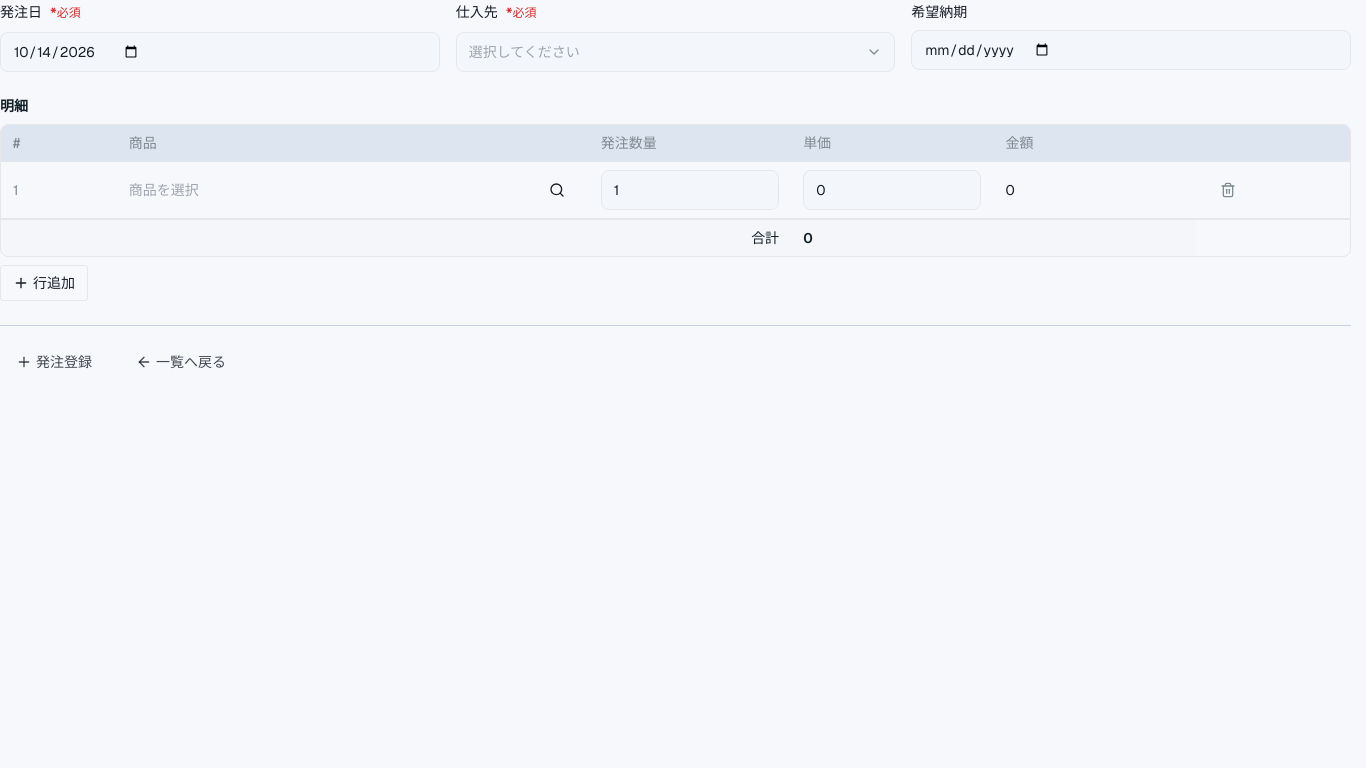
OrderForm - インタラクション › 商品を選択すると行のproductIdが更新されること
This screenshot has width=1366, height=768.
Click the 2nd button.
click(557, 190)  # box x1=537 y1=172 x2=577 y2=208
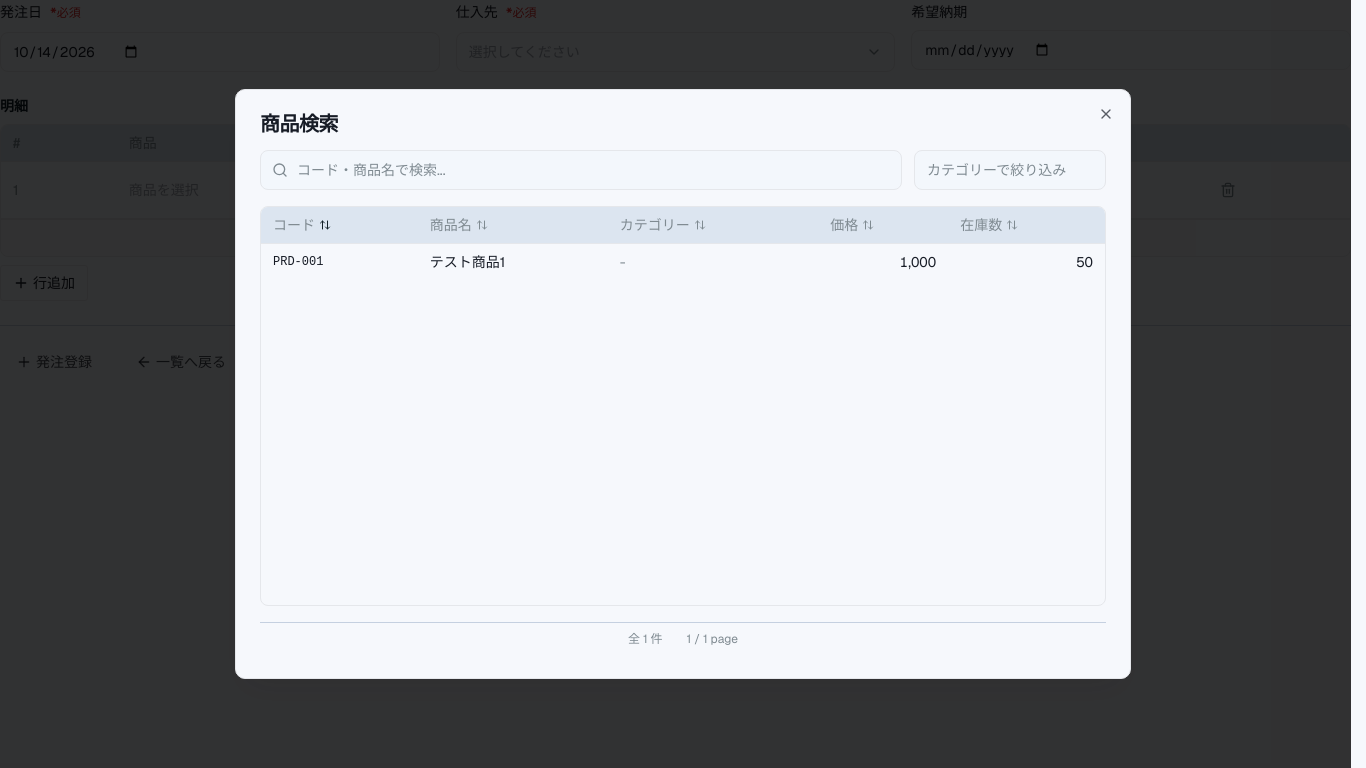
Check: the heading "商品検索" is shown, box x1=260 y1=111 x2=338 y2=137
Check: the text "テスト商品1" is shown
Click the text "テスト商品1".
click(467, 262)  # box x1=418 y1=244 x2=608 y2=280
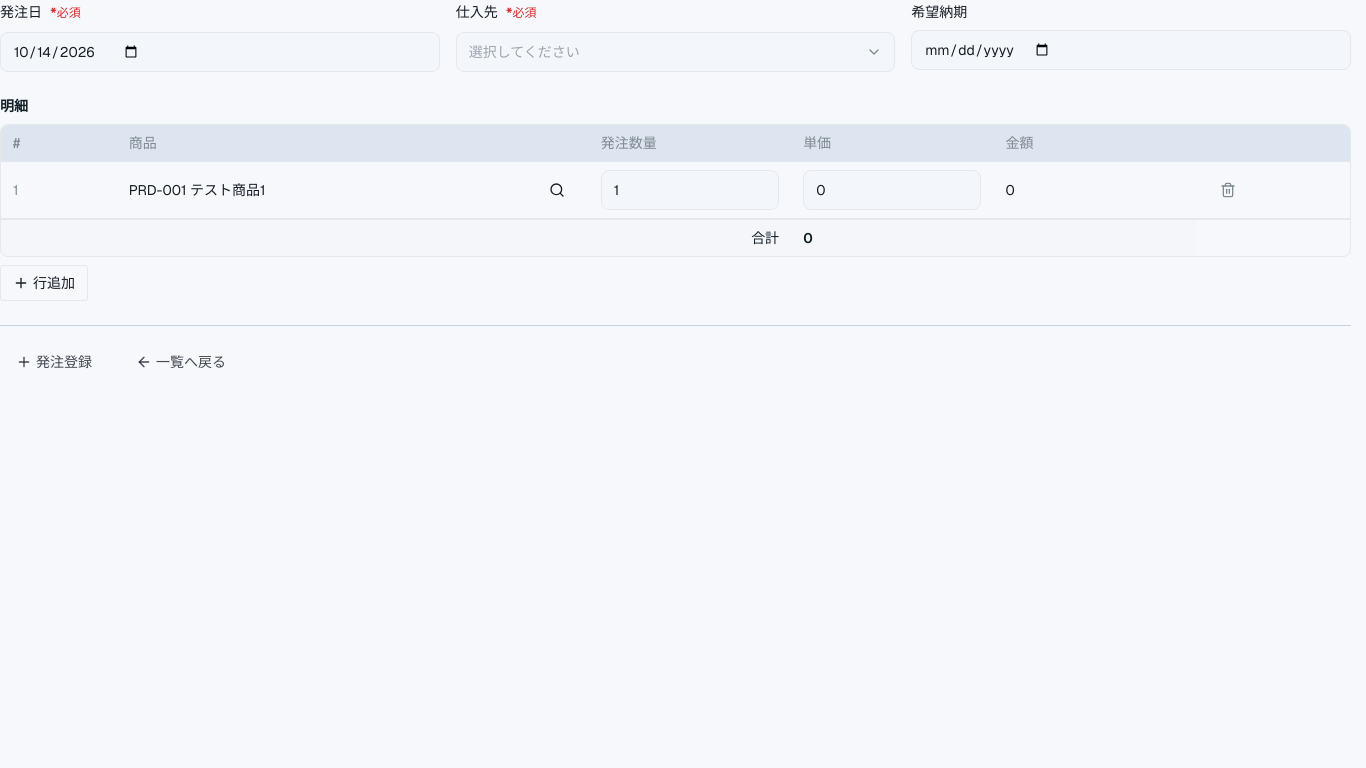
Check: the heading "商品検索" is gone
